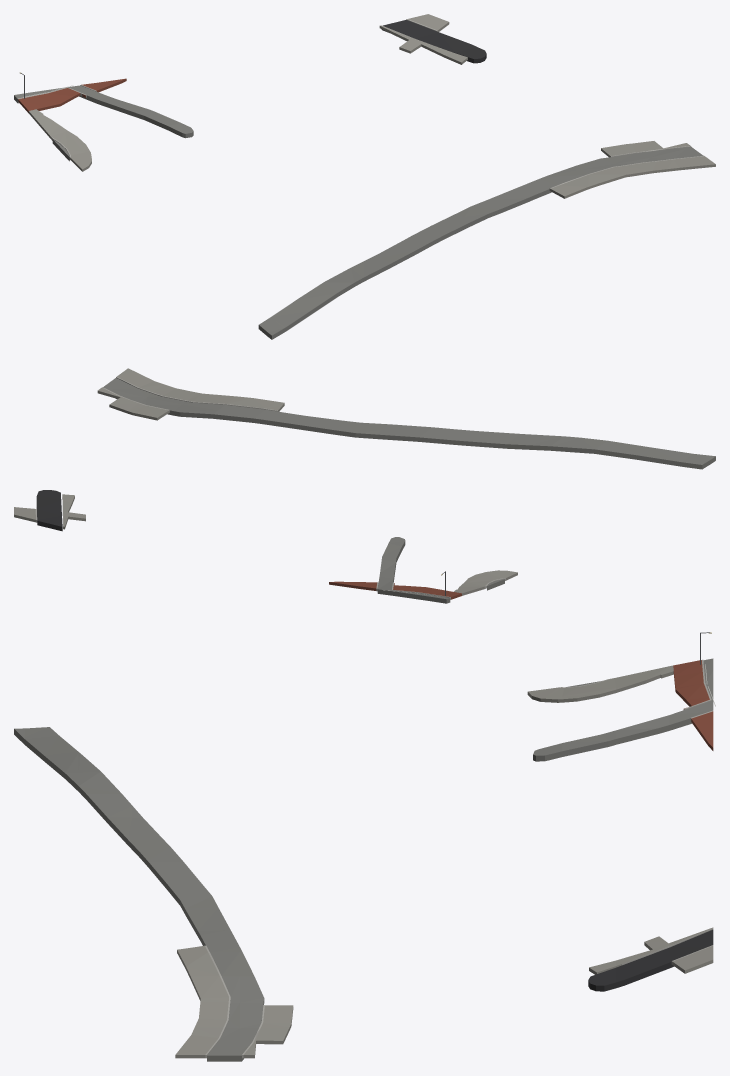
File: 18-218880-118917.ecdc96cb.glb
3 views of the same model, one above another, from view 1: azimuth 30°, elevation 25°; view 2: azimuth 150°, elevation 25°; view 3: azimuth 270°, elevation 25° (orthographic). The views are drawn at different scales.
Size of the model in its own units: 147 by 21.69 by 131.
